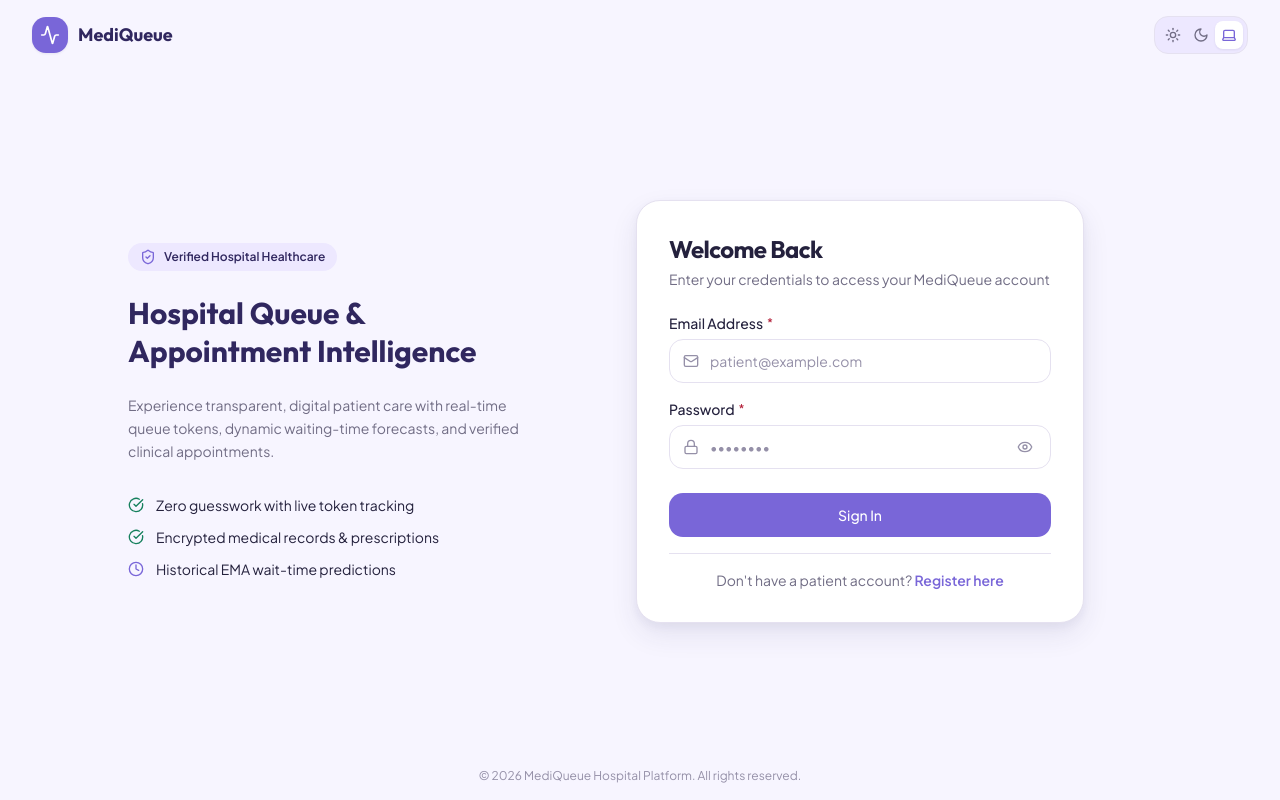
Test: Authentication Flows › LoginPage › displays server error banner when login returns 401 Bad Credentials
Type "john@example.com" into the field labelled "Email Address *".
click(860, 360); type("john@example.com")  # box [669, 338, 1051, 382]
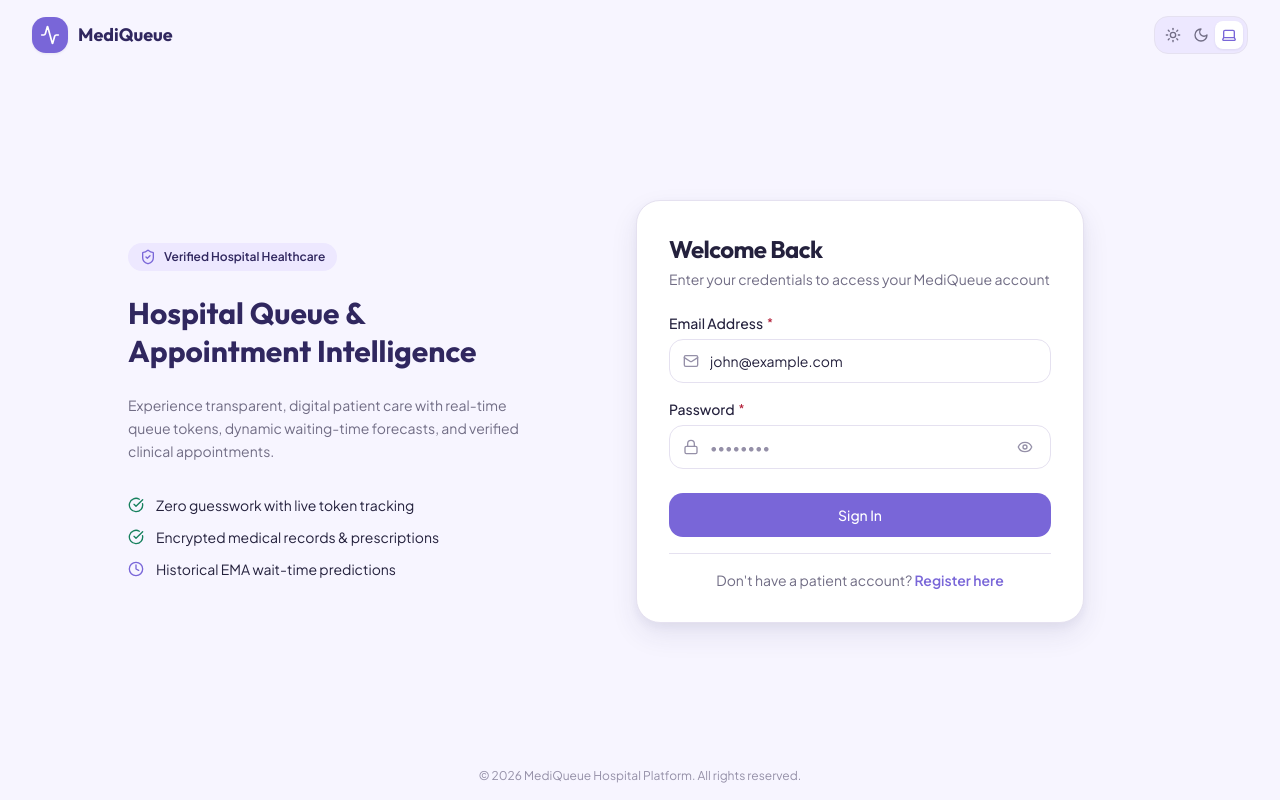
Type "WrongPassword#1" into the password field labelled "Password *".
click(860, 446); type("WrongPassword#1")  # box [669, 424, 1051, 468]
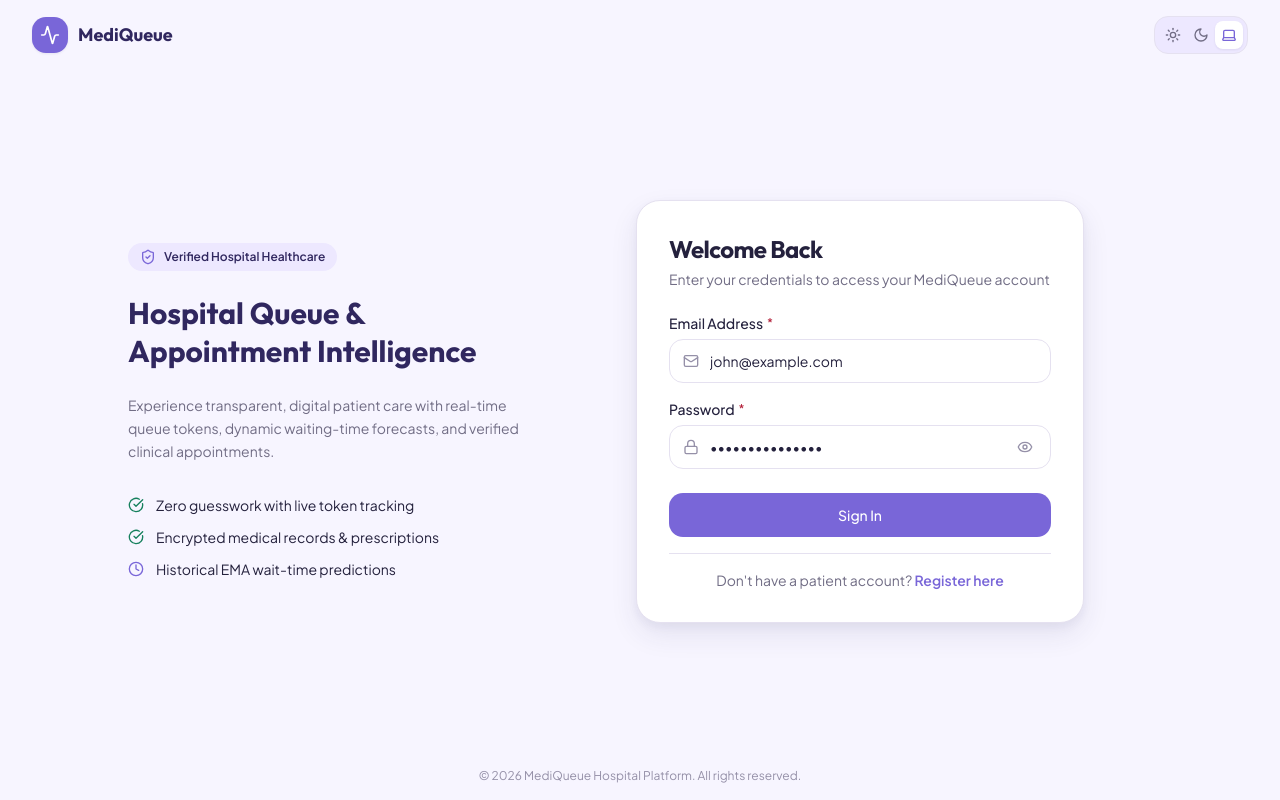
Click the button "Sign In".
click(860, 514)  # box [669, 492, 1051, 536]
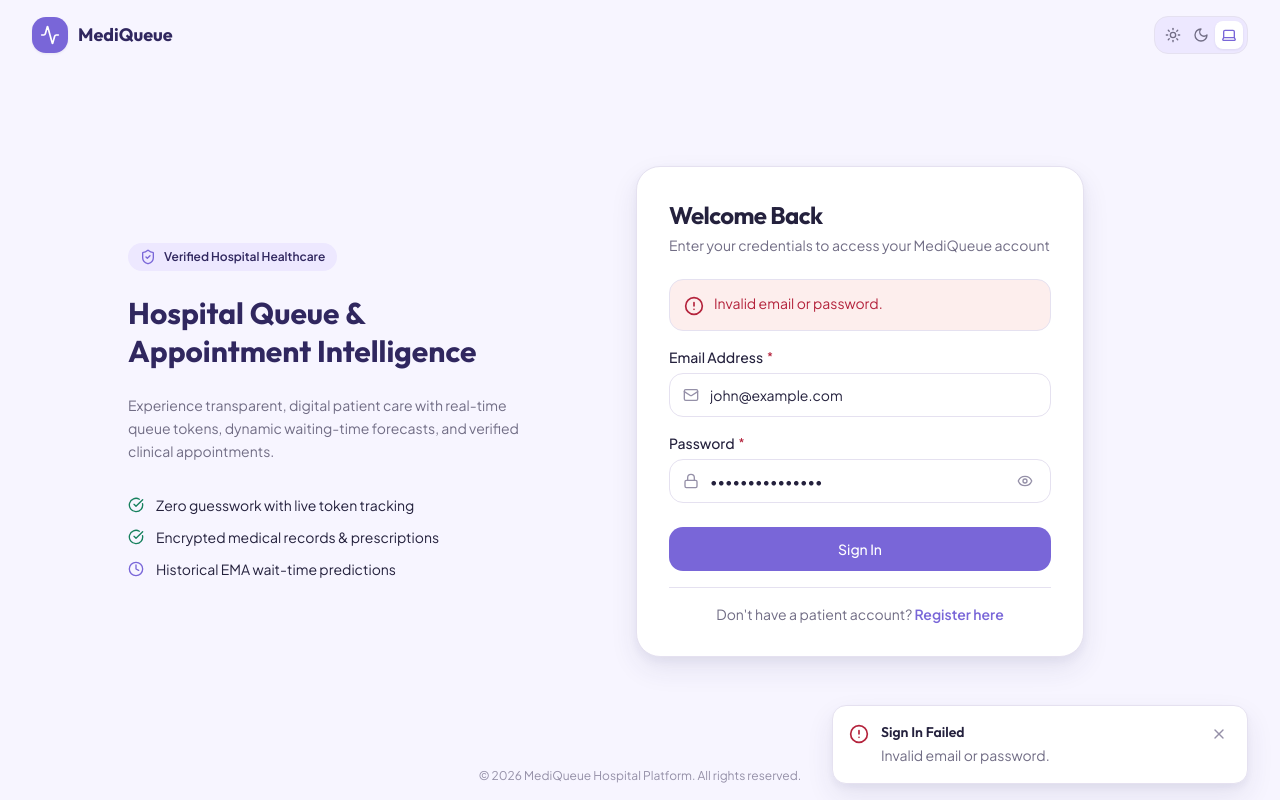
expect the message "Invalid email or password." is shown: met, box [669, 278, 1051, 330]
